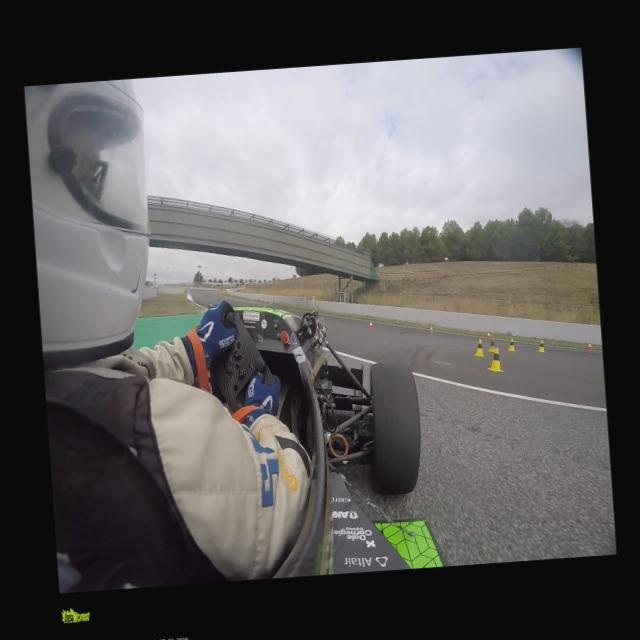orange_cone: (484, 331, 492, 340), (585, 342, 592, 352), (367, 319, 372, 330), (428, 326, 432, 334)
yellow_cone: (484, 346, 504, 374), (472, 338, 485, 359), (504, 336, 516, 354), (484, 338, 496, 353), (536, 338, 546, 353)
